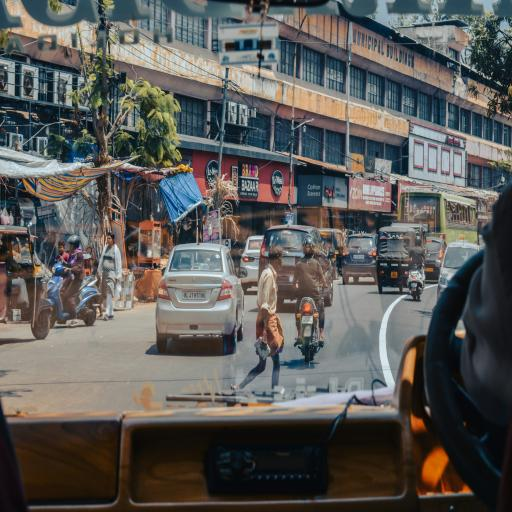auto: (1, 222, 50, 342)
bike: (294, 298, 322, 373)
bus: (397, 189, 480, 273)
car: (159, 242, 240, 351), (263, 224, 336, 314), (439, 242, 482, 300), (343, 232, 378, 288), (242, 233, 267, 291)
scooty: (45, 267, 100, 327), (407, 268, 427, 301)
